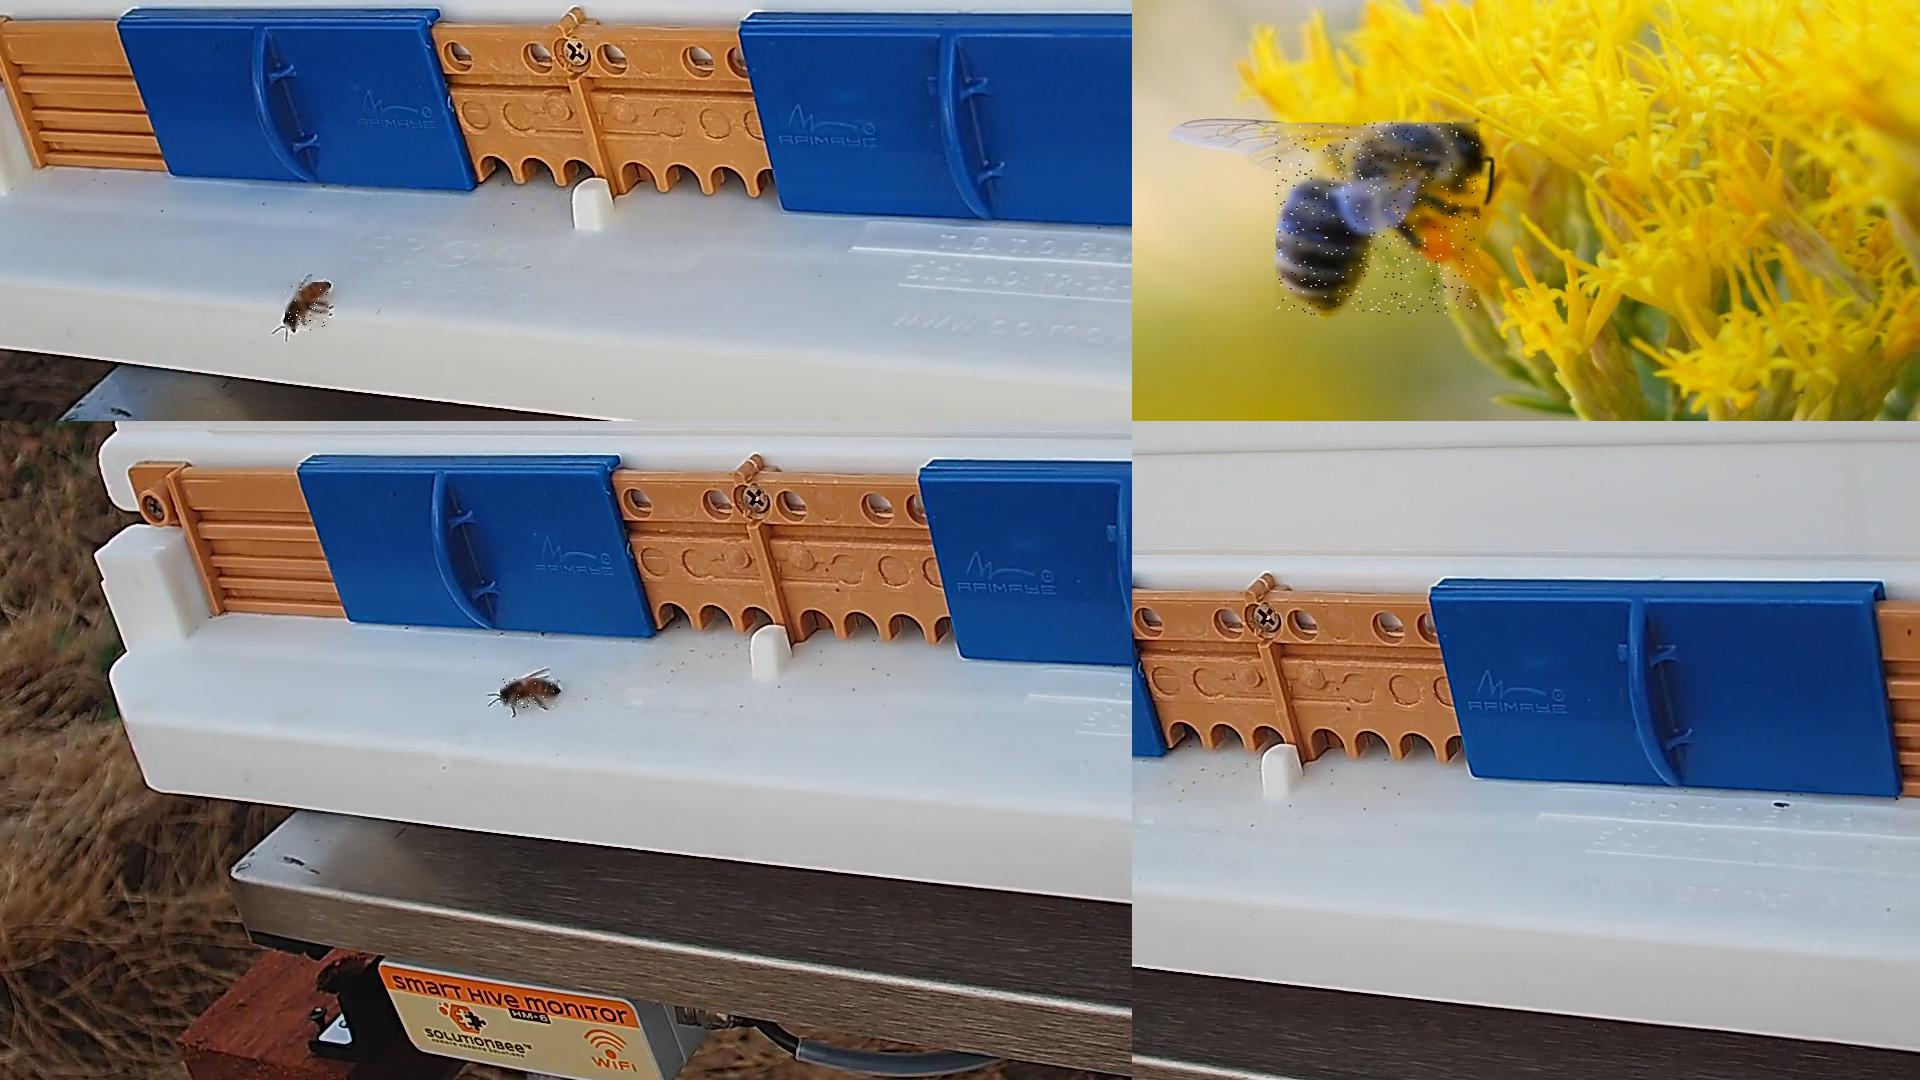bee: (285, 282, 330, 332), (500, 678, 559, 709)
pollenbee: (1275, 124, 1481, 316)
